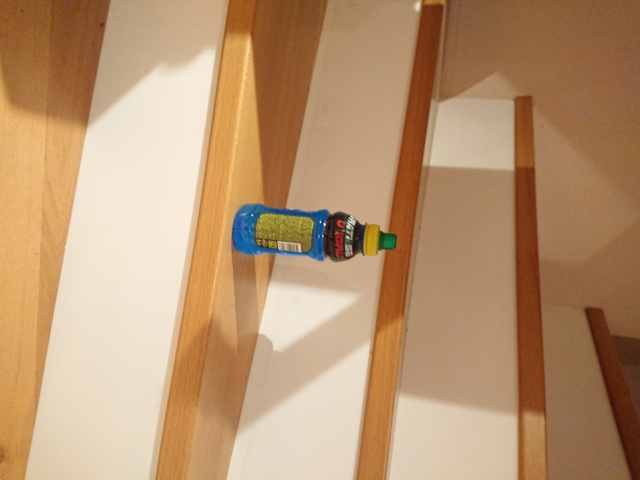Vindi Iso Sport Forest Strawberries 500mL: (229, 202, 398, 263)
